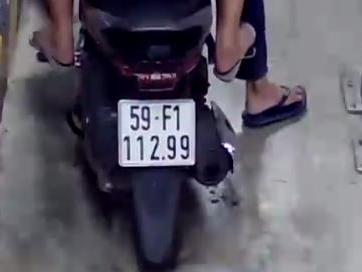num_plate: (117, 98, 197, 169)
